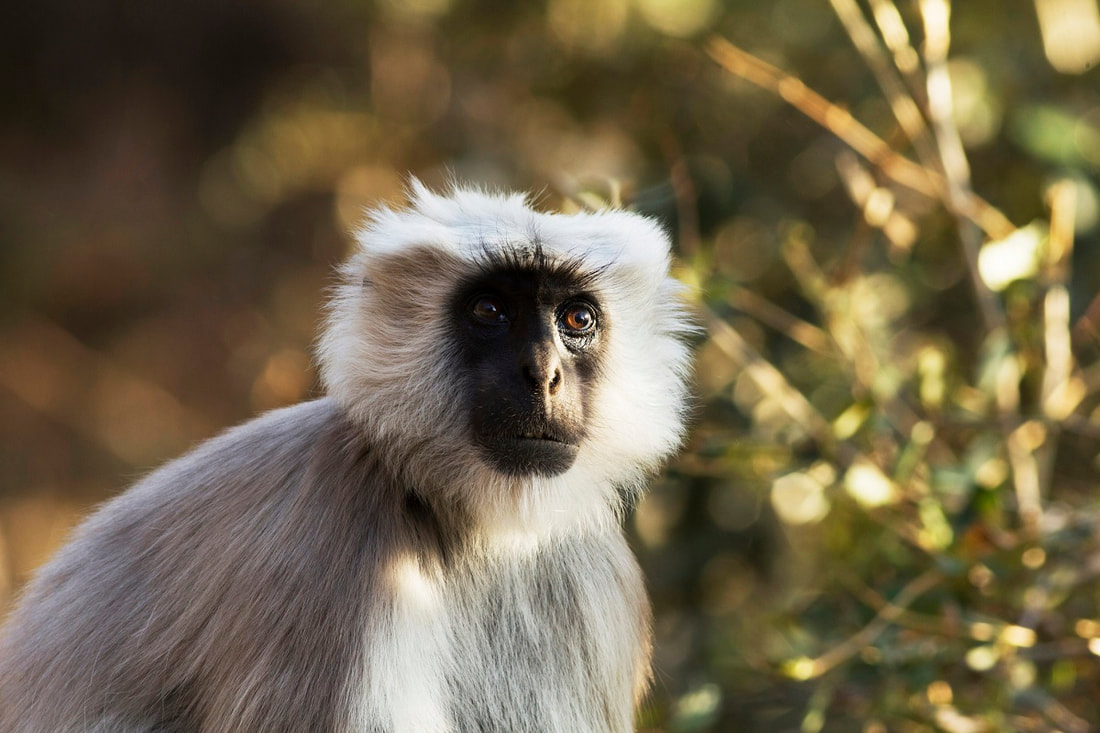monkey: (6, 168, 711, 733)
